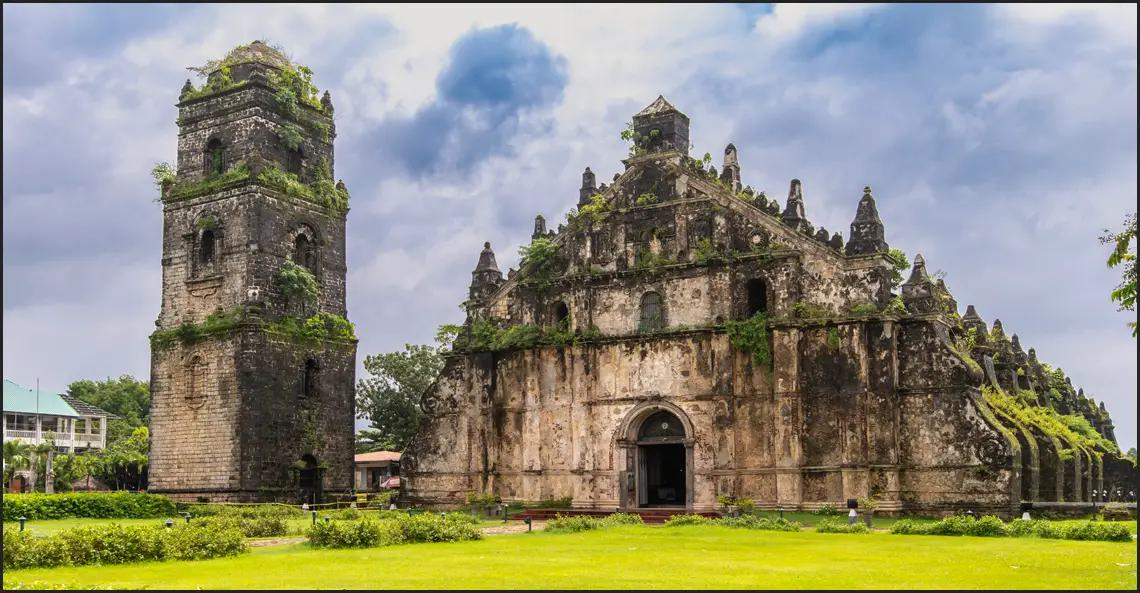Environmental Damage: (447, 318, 599, 355), (265, 169, 364, 213), (286, 310, 361, 347), (725, 313, 774, 366)
Paoay Church: (151, 40, 1011, 520)
